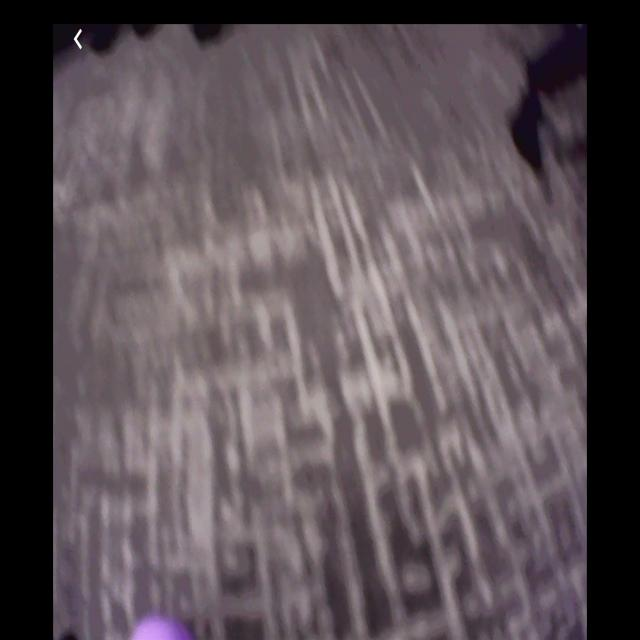ball: (128, 619, 199, 640)
